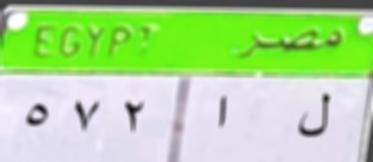2: (120, 98, 148, 142)
5: (19, 97, 53, 136)
7: (72, 94, 104, 140)
alif: (211, 89, 234, 139)
laam: (298, 87, 332, 147)
